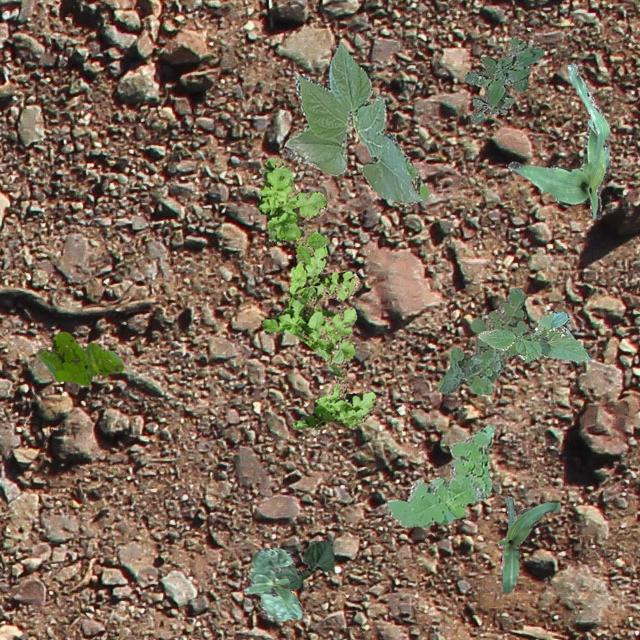crop: (282, 42, 428, 204), (506, 62, 608, 220), (496, 496, 560, 592), (478, 310, 592, 362), (242, 546, 302, 620), (278, 540, 334, 588)
weed: (255, 156, 378, 428), (436, 286, 546, 394), (386, 422, 494, 526), (463, 34, 543, 122), (36, 330, 122, 384)
